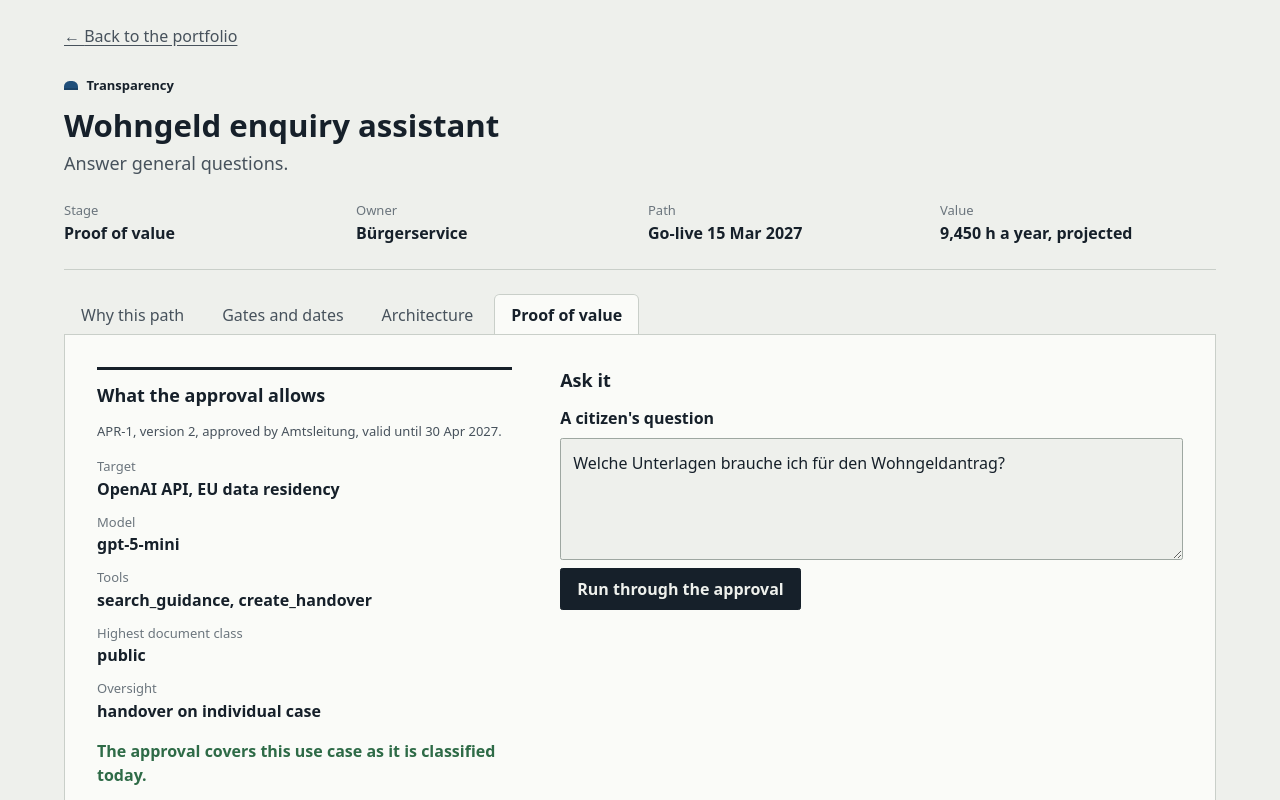
Test: use case dossier › runs the proof of value through the approval and shows who decided
This screenshot has width=1280, height=800.
Click the button "Run through the approval" at [680, 589], box 560,568 -> 801,610
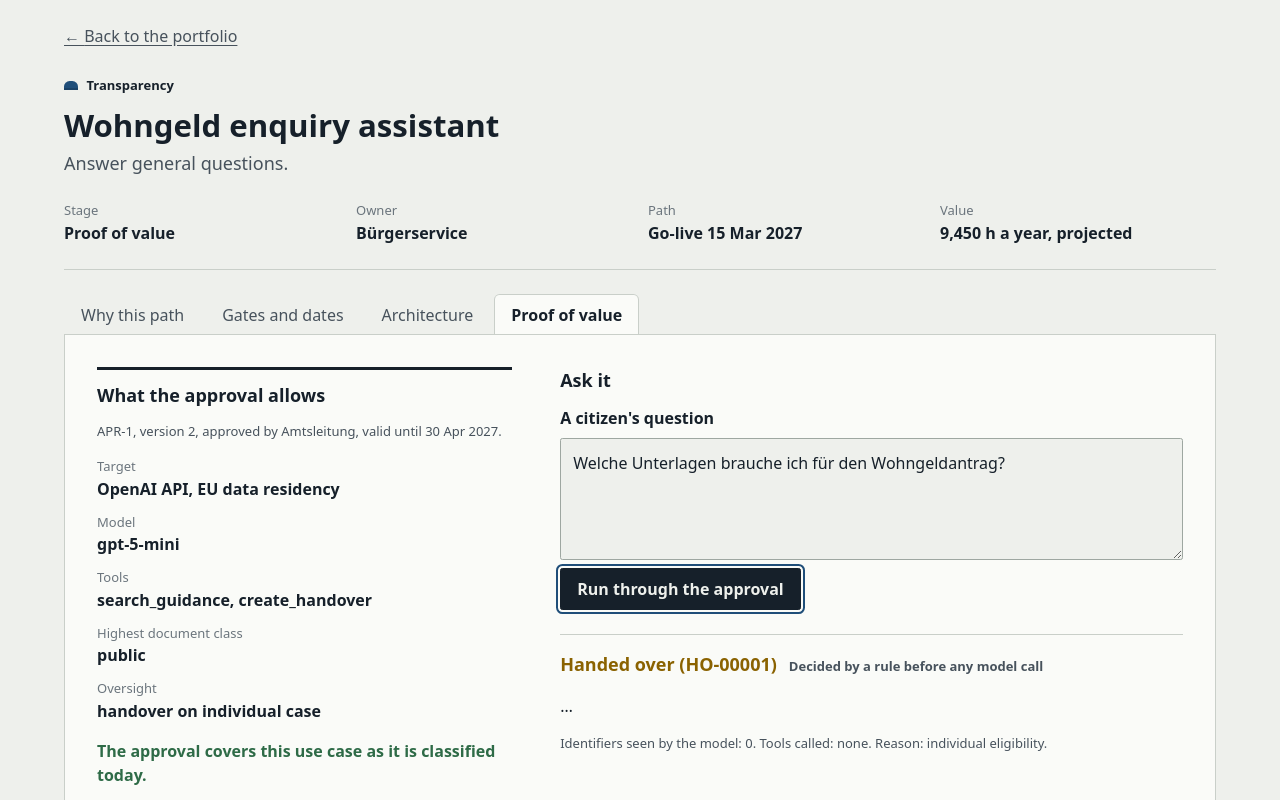
Result: the text "Handed over (HO-00001)" is shown at 560,652 -> 777,676
Result: the text "Decided by a rule before any model call" is shown at 789,657 -> 1043,676
